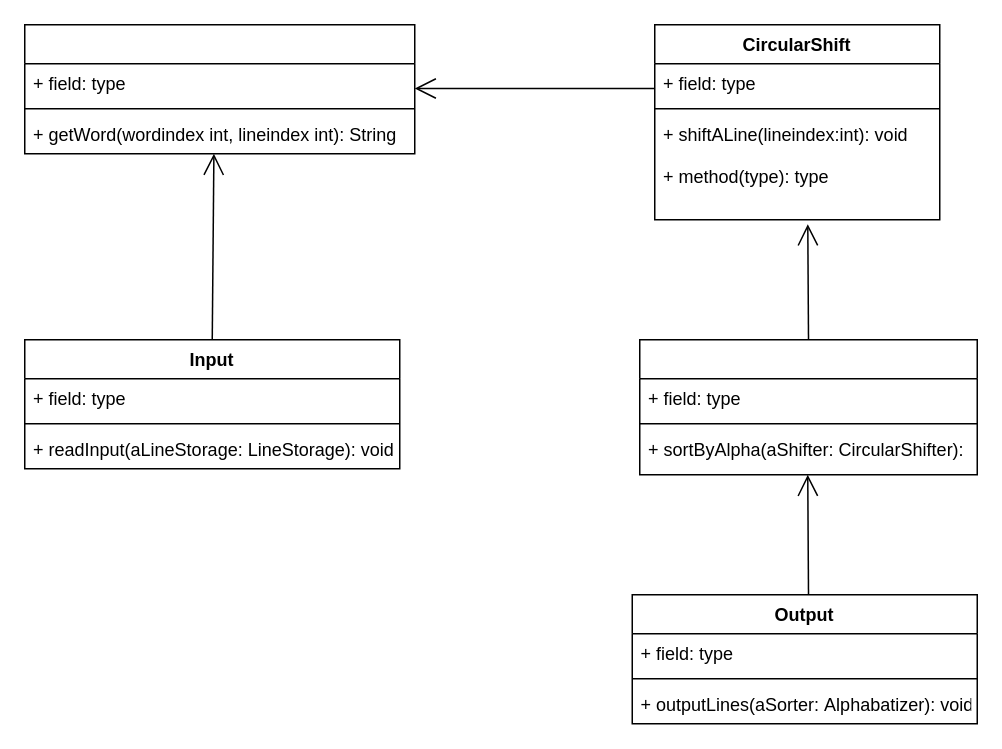
The diagram is 1002 pixels wide and 749 high, and some of its shapes have lost their labels. Each missing label, with the box of its shape:
Alphabatizer: (638, 338, 977, 475)
LineStorage: (23, 23, 415, 154)
